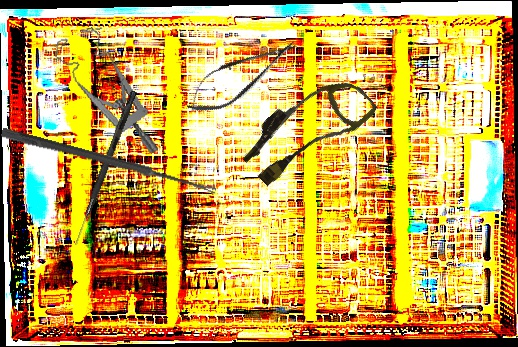Cannula: (233, 58, 380, 200)
Hook Surgical: (73, 89, 137, 247)
Micro Scissor: (177, 26, 306, 125)
Speculum: (50, 18, 160, 170)
Surgical Spoon: (0, 127, 218, 196)
